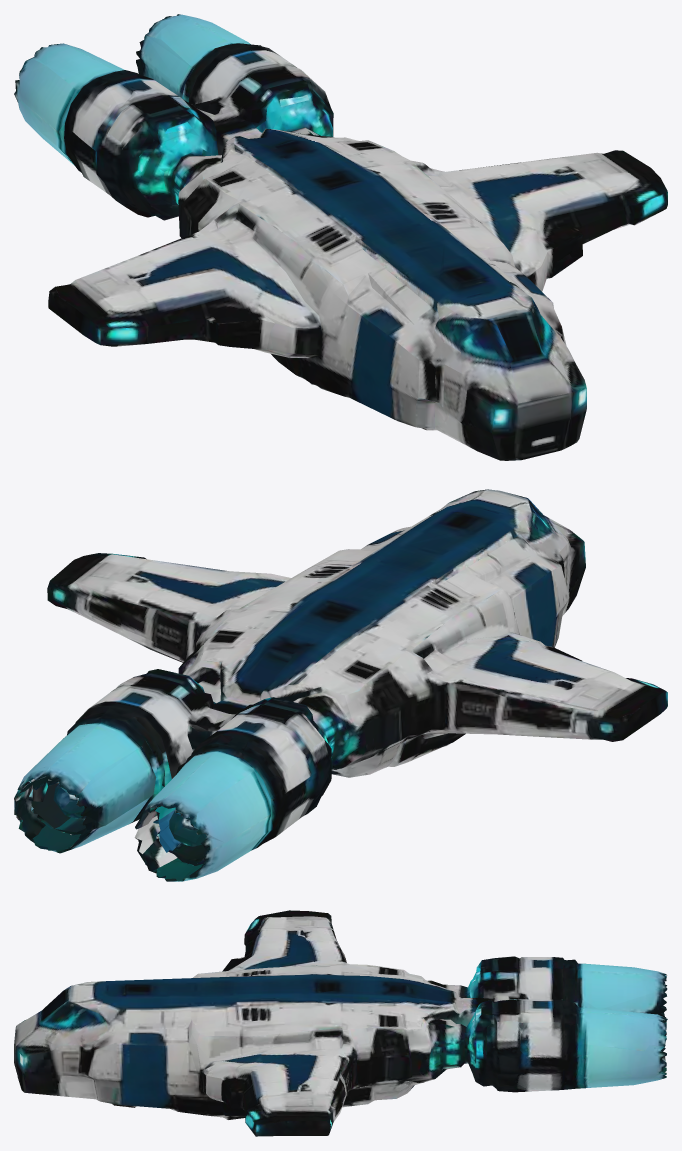
Rendered from titan.glb.
3 views of the same model, one above another, from view 1: azimuth 30°, elevation 25°; view 2: azimuth 150°, elevation 25°; view 3: azimuth 270°, elevation 25° (orthographic). The views are drawn at different scales.
Parts seen in each view (by area): view 1: 4b094a01-ab33-4550-8bf4-c011bc9302c1_texturing.obj; view 2: 4b094a01-ab33-4550-8bf4-c011bc9302c1_texturing.obj; view 3: 4b094a01-ab33-4550-8bf4-c011bc9302c1_texturing.obj.
Boxes of the visible parts, x1,y1,x2,y2 form: 4b094a01-ab33-4550-8bf4-c011bc9302c1_texturing.obj: (14,14,667,460); 4b094a01-ab33-4550-8bf4-c011bc9302c1_texturing.obj: (14,489,667,881); 4b094a01-ab33-4550-8bf4-c011bc9302c1_texturing.obj: (14,910,667,1136).
Size of the model in its own units: 1.52 by 0.3462 by 1.99.
1 material, 1 textured.
